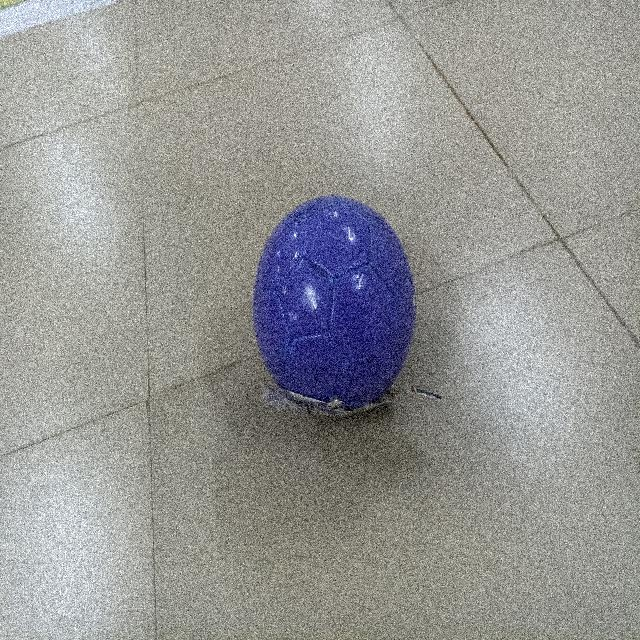purple_ball: (244, 178, 428, 442)
